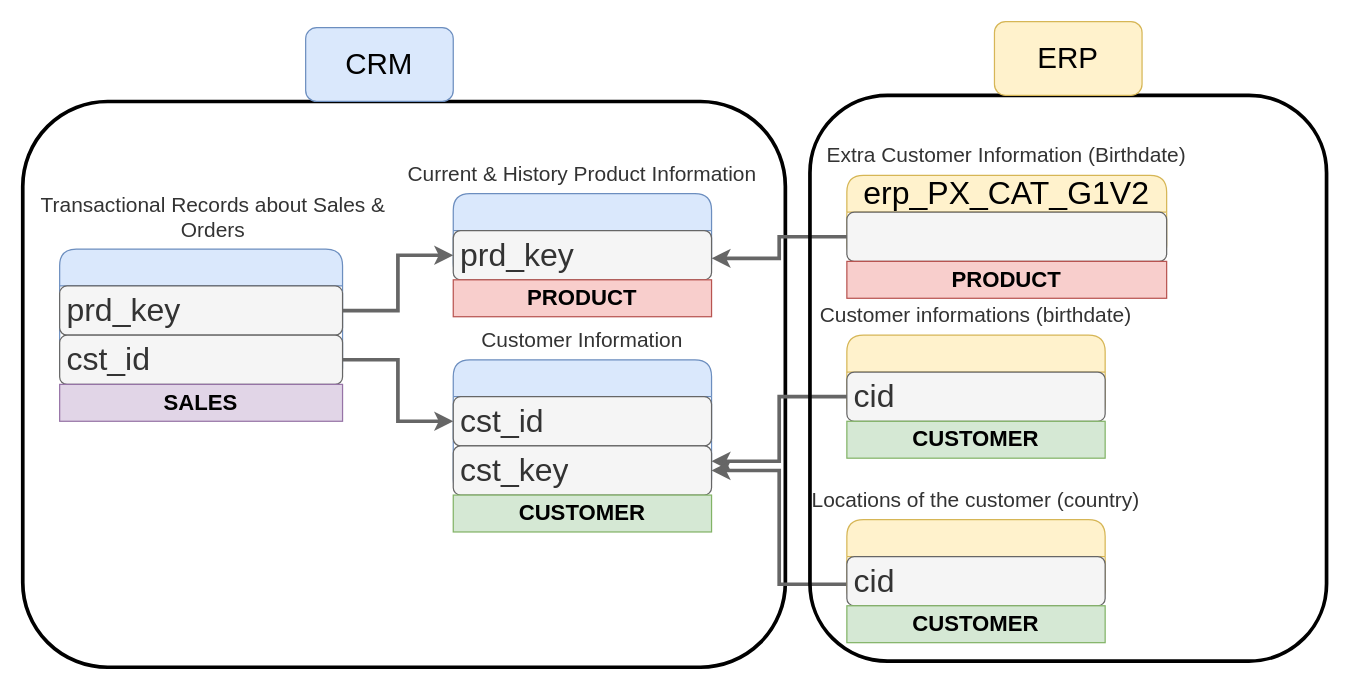
Some shapes in this 1349 by 690 pixel diagram are drawn without their labels. Here are the shapes that lost their labels. From the top down, the box of each, then its label:
(452, 192, 712, 280): crm_prd_info
(846, 211, 1167, 261): id
(58, 248, 343, 384): crm_sales_details
(846, 334, 1105, 421): erp_CUST_AZ12
(452, 359, 712, 495): crm_cust_info
(846, 518, 1105, 606): erp_LOC_A101
